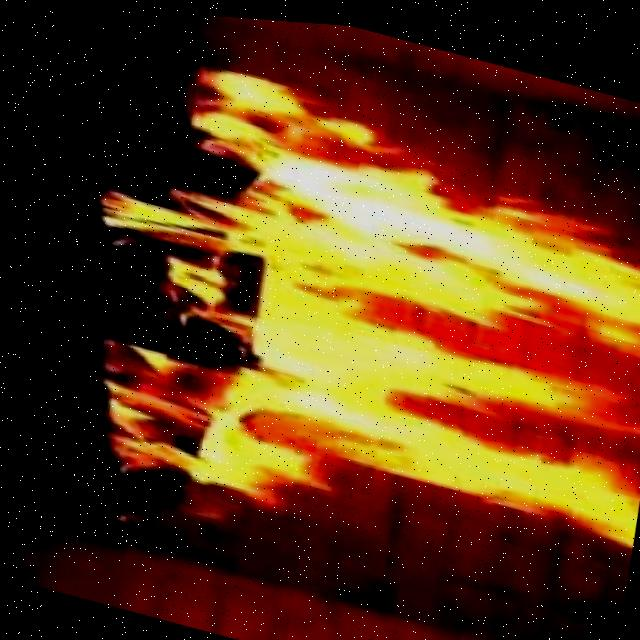Fire: (30, 23, 640, 621)
